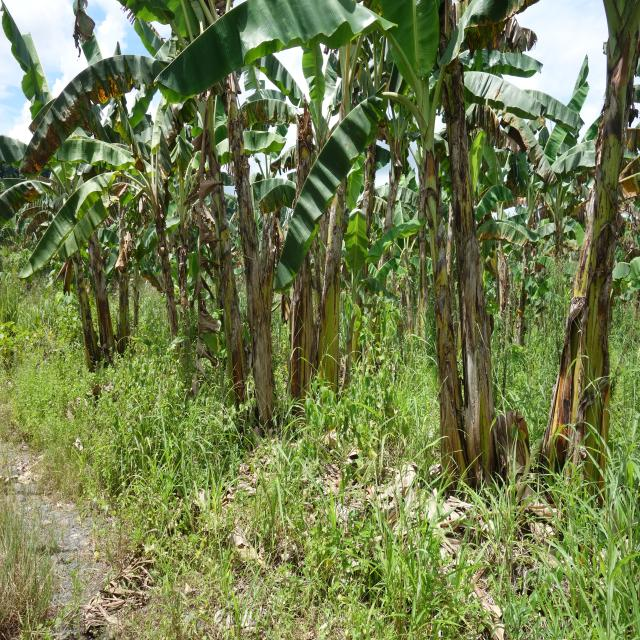Banana-plant: (537, 3, 640, 513), (442, 2, 502, 496), (404, 60, 464, 506), (220, 56, 273, 440), (192, 65, 246, 421), (318, 51, 358, 399), (139, 175, 181, 368), (76, 176, 114, 370)
